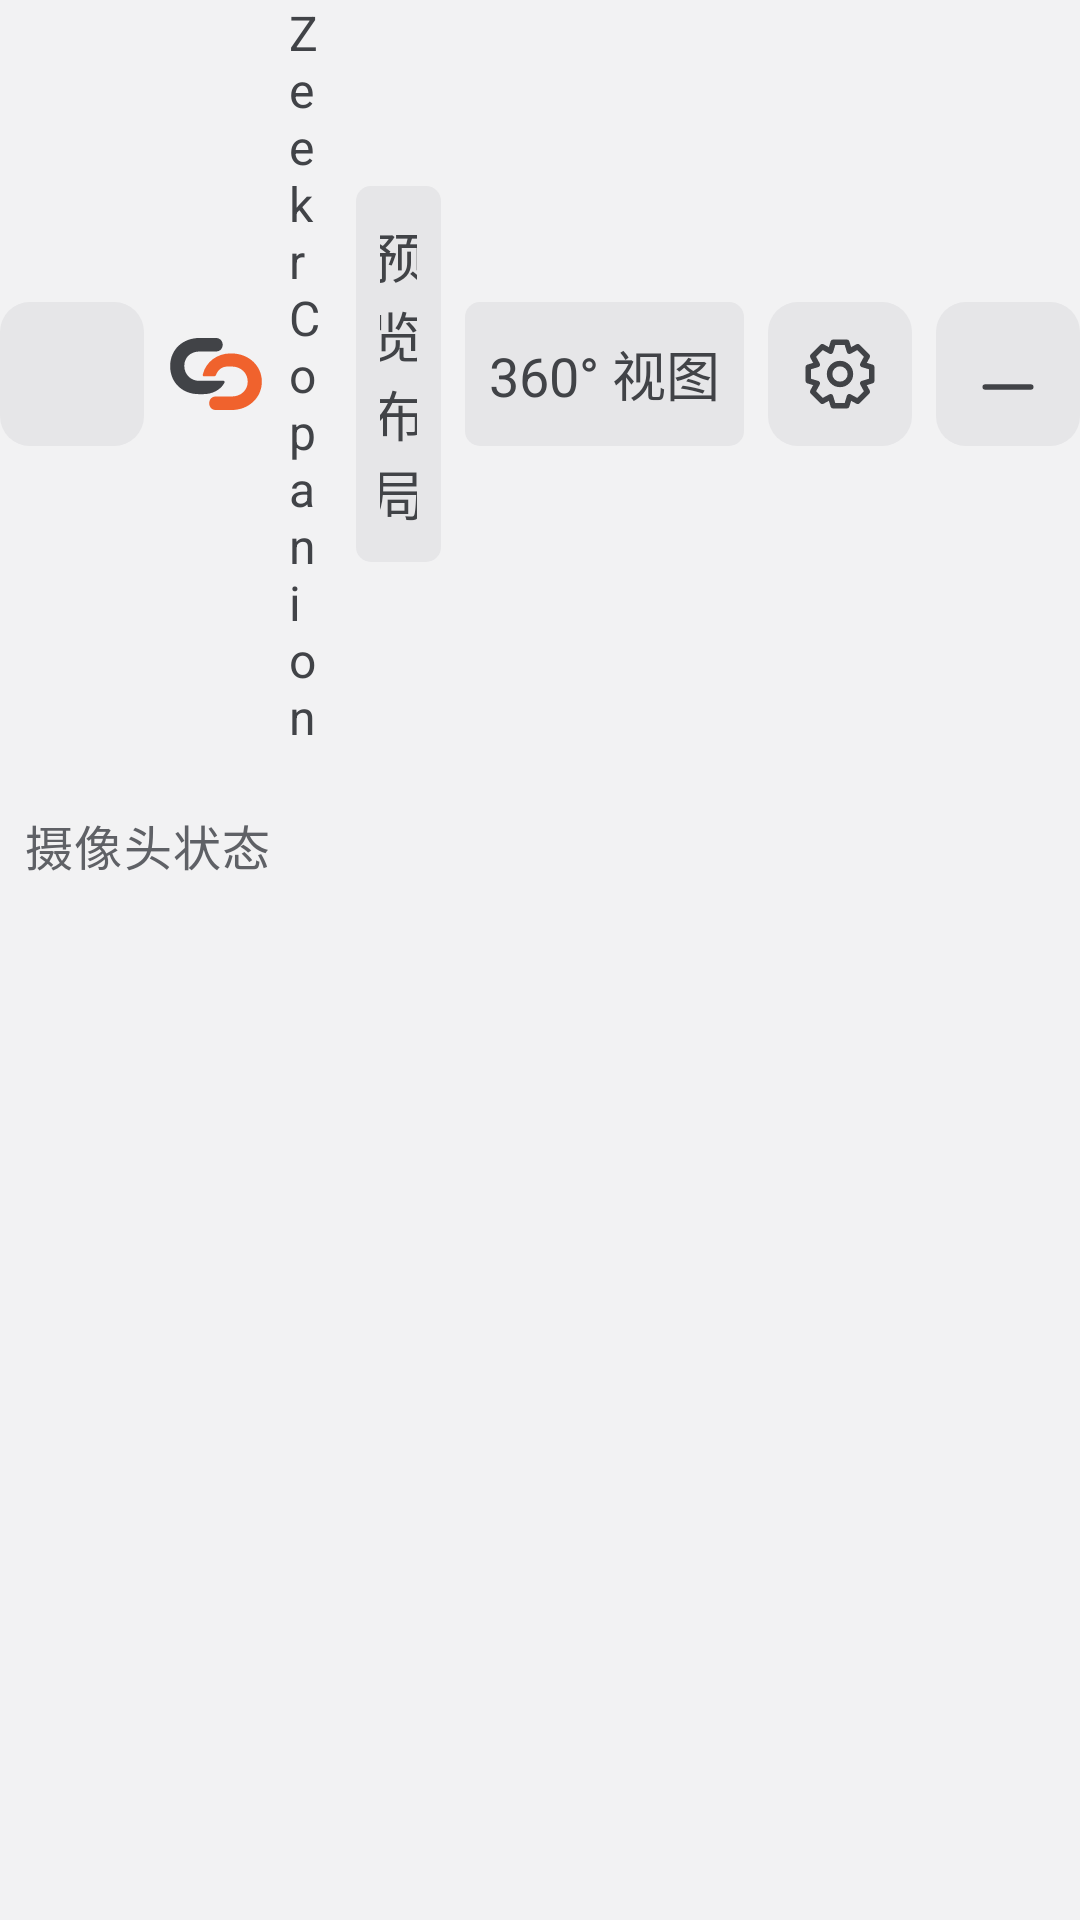

Screen size 1080px×1920px. Icon name, then its center in pixels as (x=x, y=y):
设置: (x=840, y=374)
